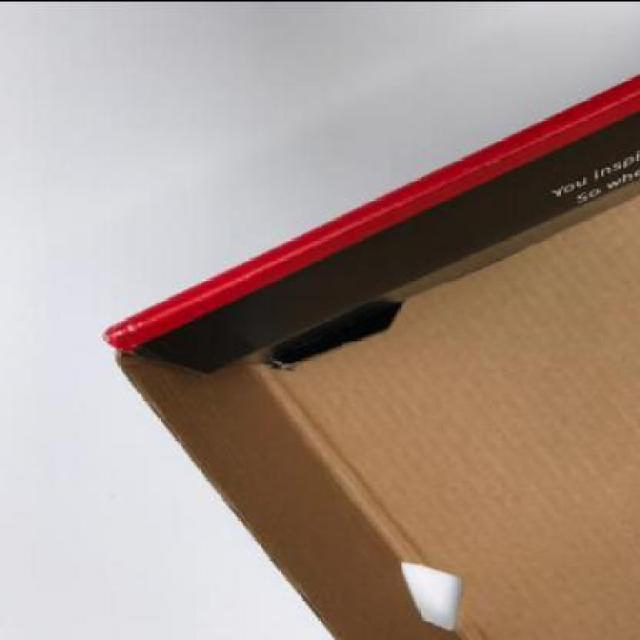box: (100, 76, 640, 639)
